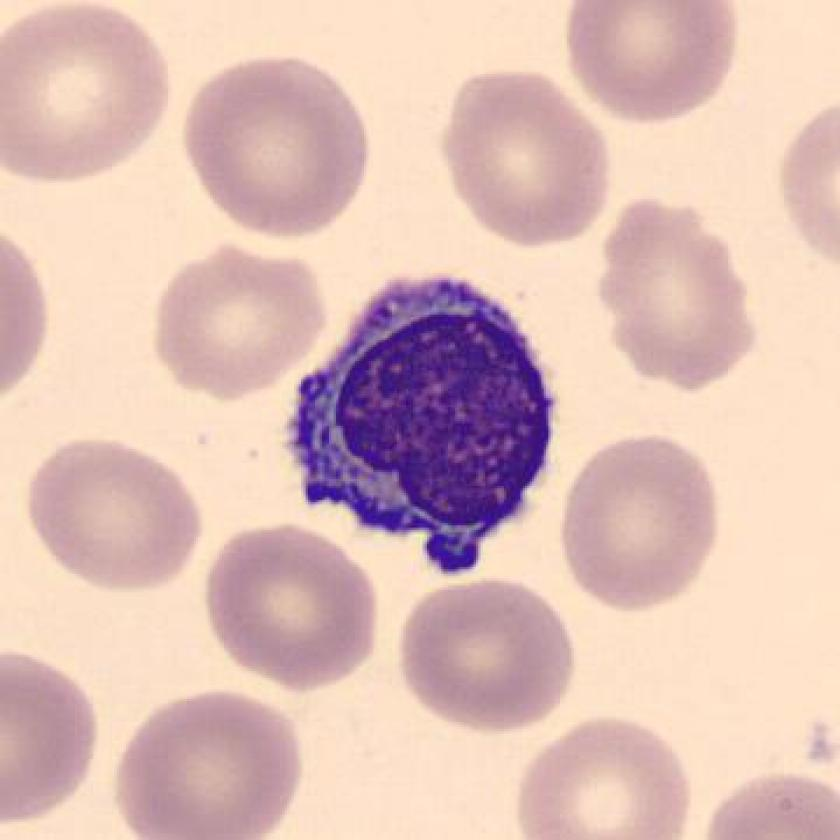lymphocyte: (276, 265, 573, 582)
